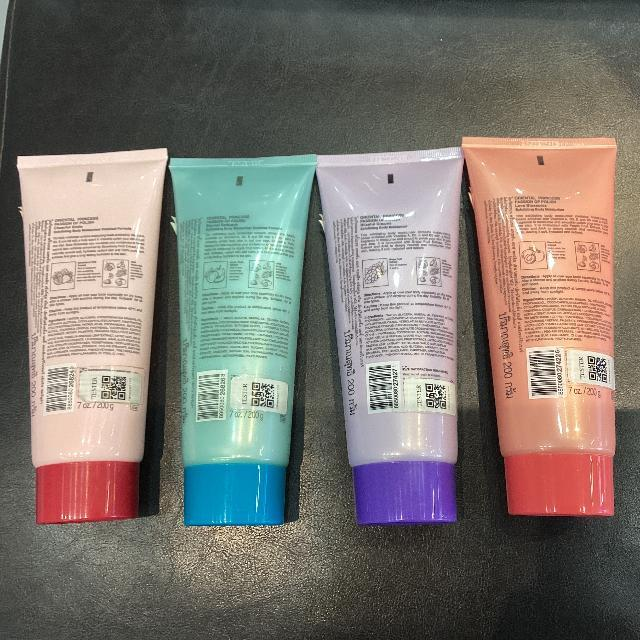Squeeze Tube: (4, 105, 640, 569), (14, 136, 178, 542), (149, 144, 313, 534), (460, 123, 618, 526), (319, 143, 472, 532)
